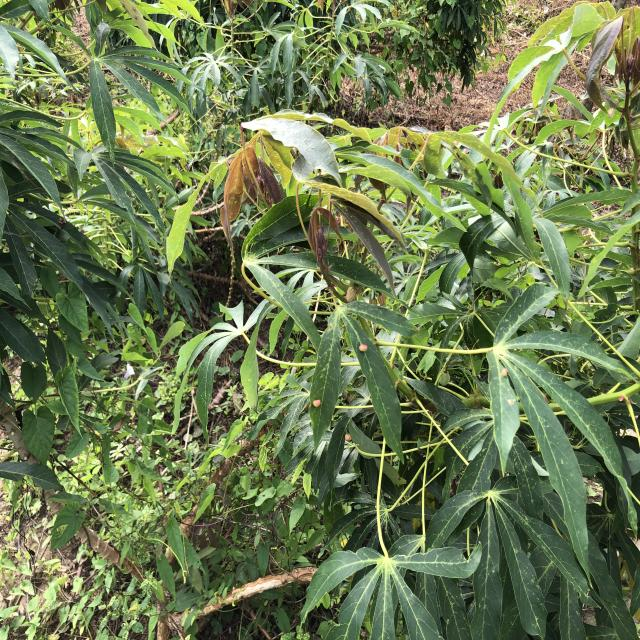Maleza: (11, 458, 284, 637), (14, 363, 168, 483)
Mosca: (498, 359, 514, 384), (353, 334, 370, 356), (307, 390, 324, 411), (340, 429, 361, 443), (504, 394, 520, 411)
